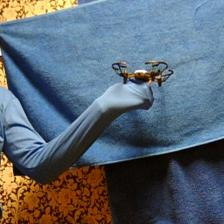drone: (112, 59, 174, 90)
